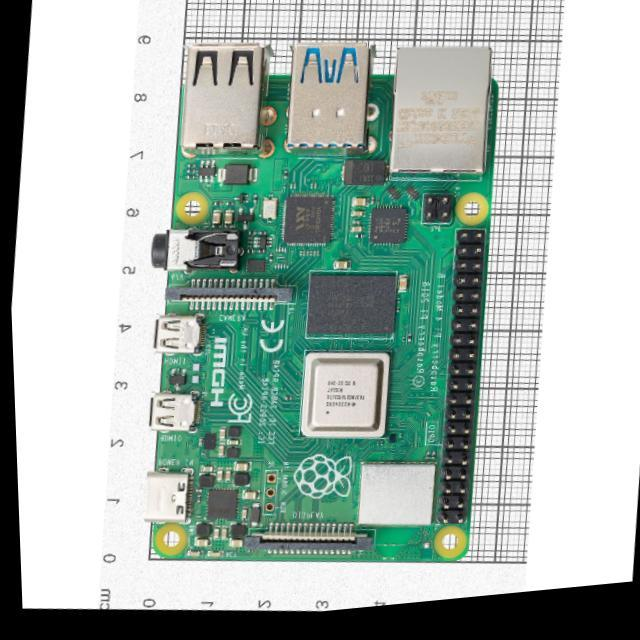Raspberry-Pi-4-B: (147, 42, 497, 560)
